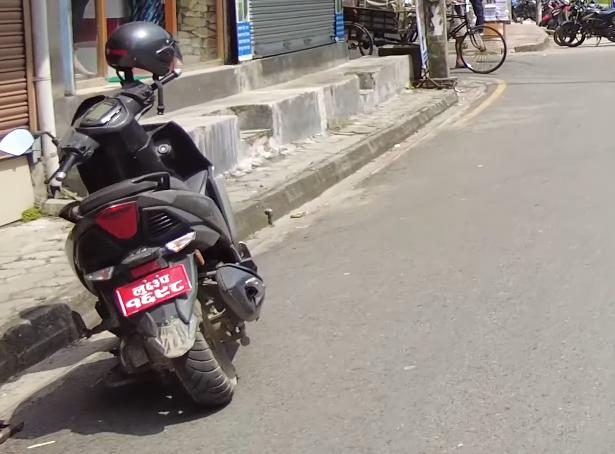scooter: (0, 55, 269, 418)
